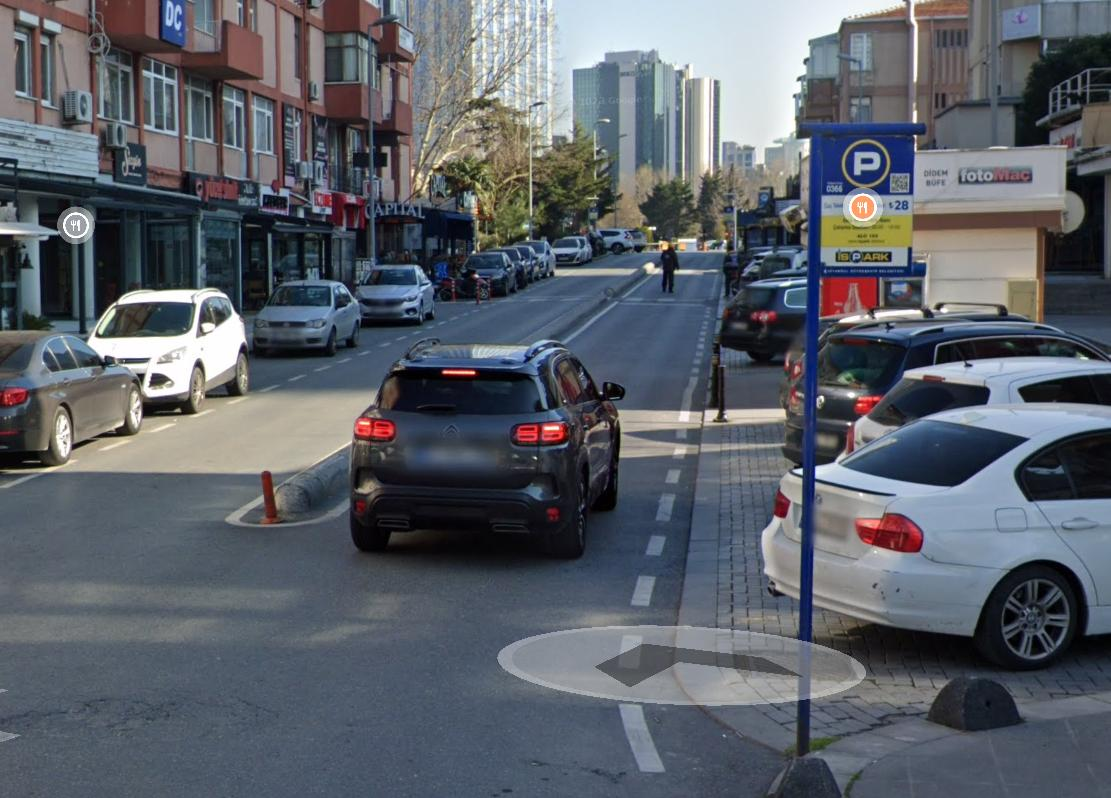park: (839, 135, 894, 191)
